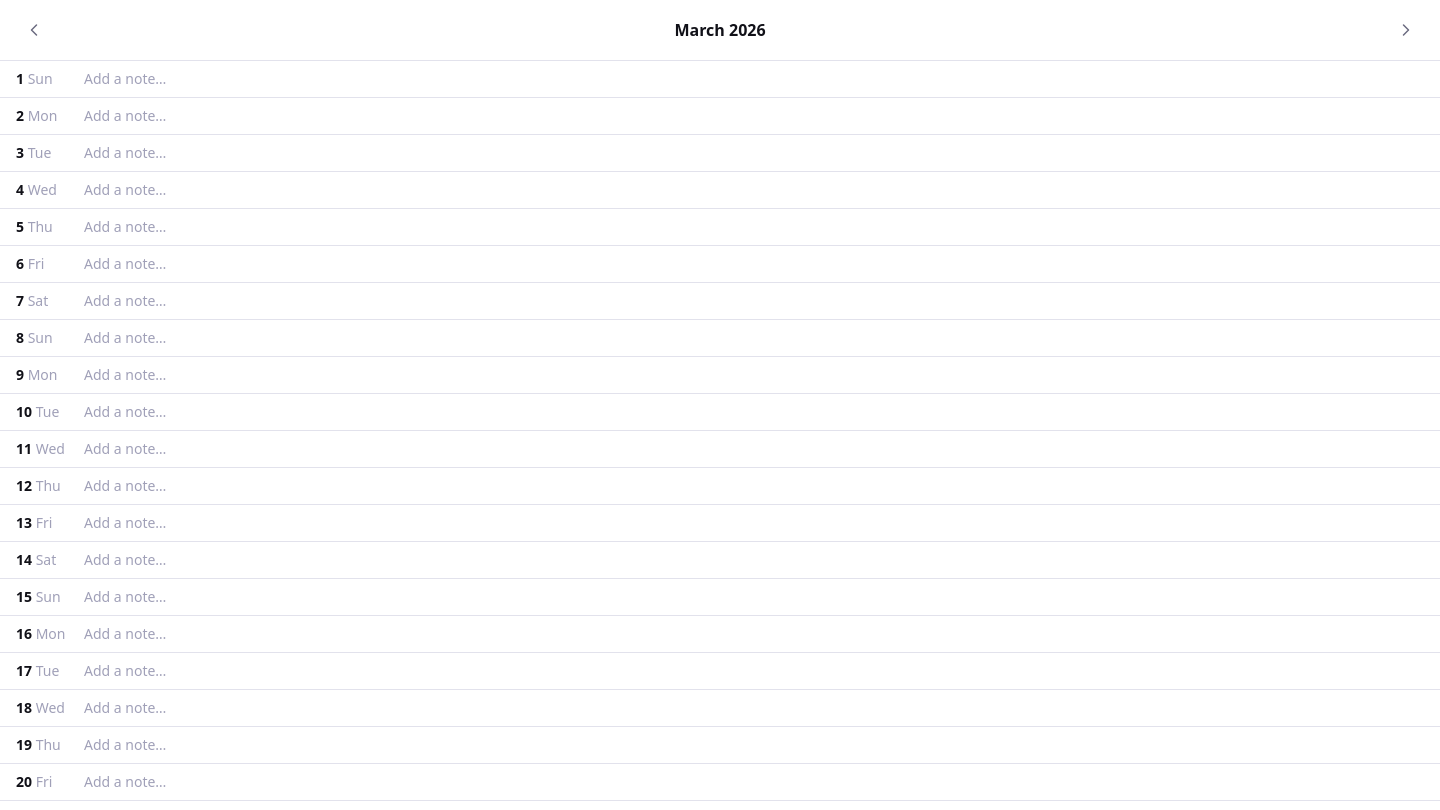
Scenario: TimelineView › navigates to next month when next button clicked
The width and height of the screenshot is (1440, 810).
Click the button named "next" at (1406, 30), box [1388, 12, 1424, 48]
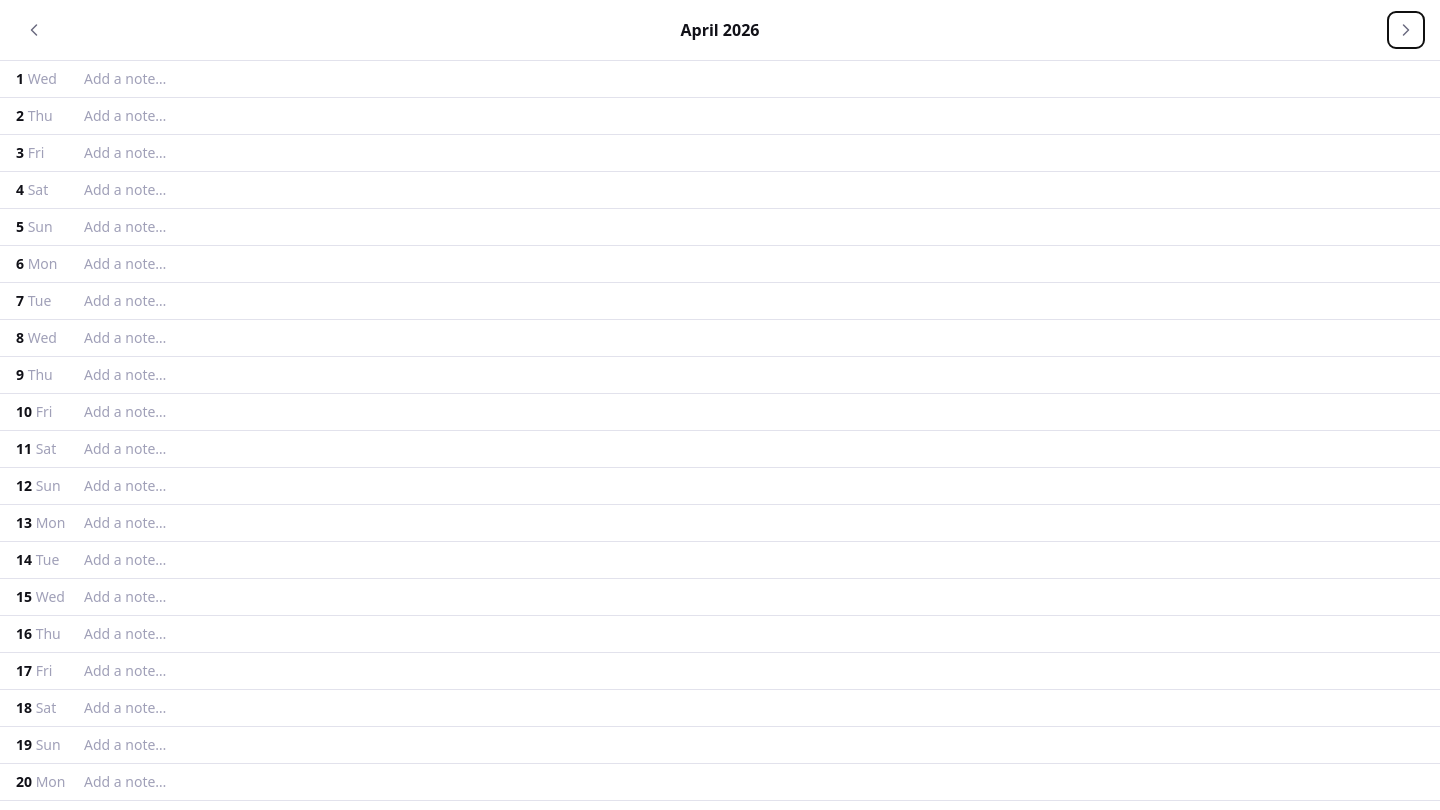
Check: the text "April 2026" is shown, box [680, 18, 760, 42]
